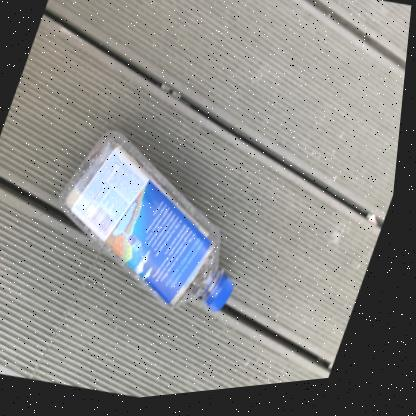Plastic: (62, 132, 238, 317)
